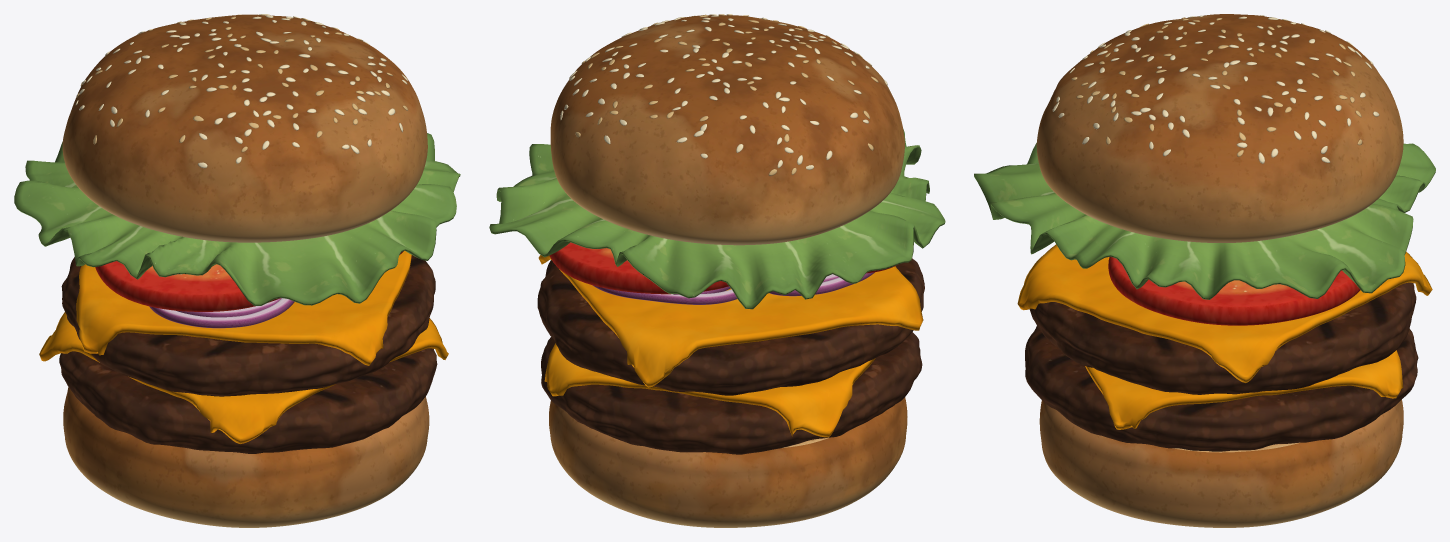
File: faah-burger.glb
3 renders of one model, left to right at view 1: azimuth 30°, elevation 25°; view 2: azimuth 150°, elevation 25°; view 3: azimuth 270°, elevation 25°, orthographic.
Visible parts, largest first — view 1: 01_Top_Bun, 10_Bottom_Bun, 03_Lettuce, 09_Patty_Lower, 07_Patty_Upper, 06_Cheese_Upper, 08_Cheese_Lower, 04_Tomato, 02_Sesame_Seeds, 05_Onion; view 2: 01_Top_Bun, 10_Bottom_Bun, 03_Lettuce, 07_Patty_Upper, 06_Cheese_Upper, 09_Patty_Lower, 08_Cheese_Lower, 02_Sesame_Seeds, 04_Tomato, 05_Onion; view 3: 01_Top_Bun, 10_Bottom_Bun, 03_Lettuce, 07_Patty_Upper, 09_Patty_Lower, 06_Cheese_Upper, 04_Tomato, 08_Cheese_Lower, 02_Sesame_Seeds.
Boxes of the visible parts, x1,y1,x2,y2 form: 01_Top_Bun: (62, 14, 427, 242); 10_Bottom_Bun: (63, 387, 429, 527); 03_Lettuce: (14, 133, 460, 305); 09_Patty_Lower: (59, 348, 437, 453); 07_Patty_Upper: (61, 255, 435, 396); 06_Cheese_Upper: (76, 250, 411, 365); 08_Cheese_Lower: (39, 312, 448, 443); 04_Tomato: (95, 251, 403, 311); 02_Sesame_Seeds: (75, 14, 407, 168); 05_Onion: (149, 298, 294, 328); 01_Top_Bun: (550, 15, 904, 245); 10_Bottom_Bun: (549, 397, 907, 527); 03_Lettuce: (489, 129, 945, 309); 07_Patty_Upper: (537, 258, 924, 395); 06_Cheese_Upper: (538, 255, 923, 387); 09_Patty_Lower: (541, 332, 922, 454); 08_Cheese_Lower: (544, 343, 875, 437); 02_Sesame_Seeds: (560, 14, 887, 175); 04_Tomato: (549, 242, 896, 294); 05_Onion: (592, 272, 874, 304); 01_Top_Bun: (1036, 14, 1403, 242); 10_Bottom_Bun: (1039, 399, 1403, 527); 03_Lettuce: (974, 142, 1435, 299); 07_Patty_Upper: (1029, 282, 1416, 394); 09_Patty_Lower: (1025, 326, 1418, 451); 06_Cheese_Upper: (1017, 244, 1432, 382); 04_Tomato: (1108, 256, 1360, 325); 08_Cheese_Lower: (1085, 350, 1403, 429); 02_Sesame_Seeds: (1052, 15, 1379, 163).
Bounding box in the file's own units: 0.1321 × 0.1358 × 0.1369.
Materials: 9 (7 with a texture image).
